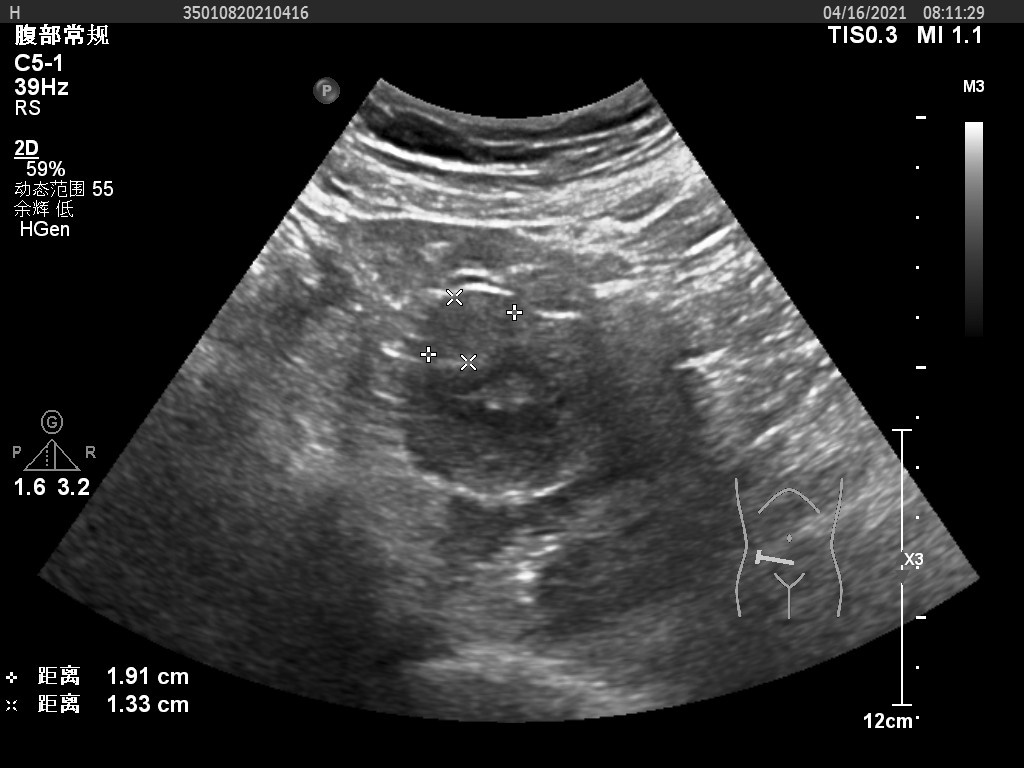肌瘤: (429, 297, 514, 364)
